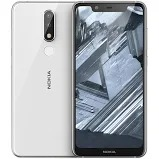nokia: (72, 1, 147, 158), (8, 1, 73, 157)
